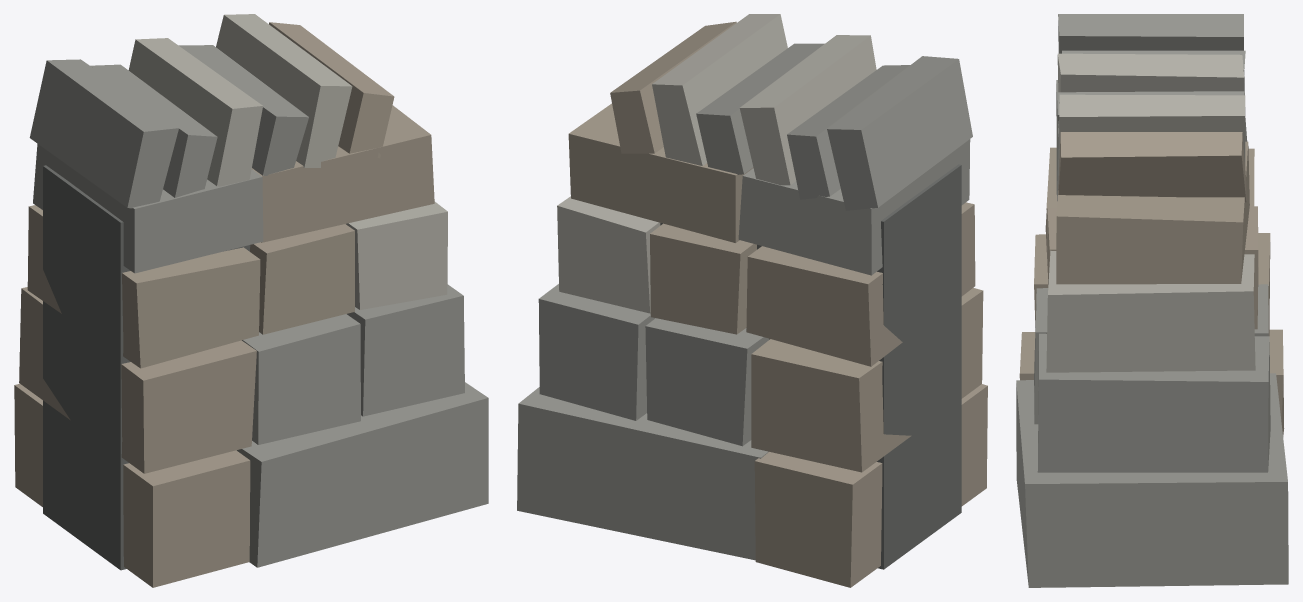
File: wall_dry_end.glb
3 renders of one model, left to right at view 1: azimuth 30°, elevation 25°; view 2: azimuth 150°, elevation 25°; view 3: azimuth 270°, elevation 25°, orthographic. The views are drawn at different scales.
Visible parts, largest first — view 1: wall_dry_end; view 2: wall_dry_end; view 3: wall_dry_end.
Part boxes in pixels (left/top/right/bottom): wall_dry_end: left=14, top=14, right=488, bottom=587; wall_dry_end: left=517, top=14, right=987, bottom=587; wall_dry_end: left=1016, top=14, right=1288, bottom=587.
Bounding box in the file's own units: 0.7875 × 0.9679 × 0.563.
